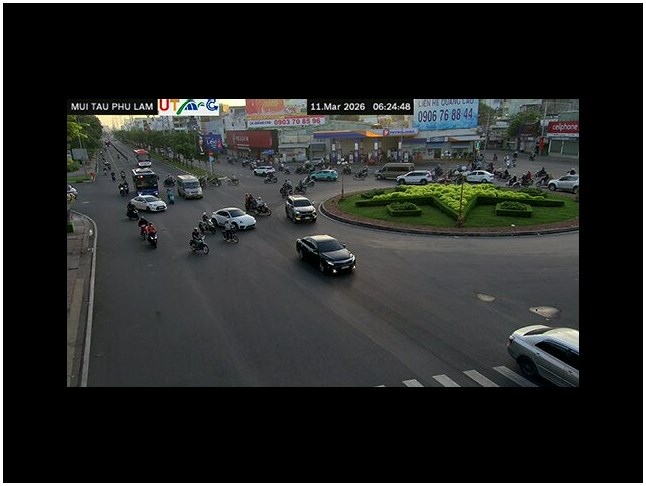car: (506, 324, 579, 386), (294, 232, 357, 276), (212, 207, 257, 231), (127, 194, 167, 216), (285, 196, 317, 223), (375, 162, 414, 181), (177, 175, 204, 200), (547, 171, 579, 192), (396, 170, 433, 185), (465, 170, 495, 184), (310, 169, 338, 183), (253, 165, 277, 181), (252, 164, 276, 176)
motorbike: (189, 235, 209, 256)
